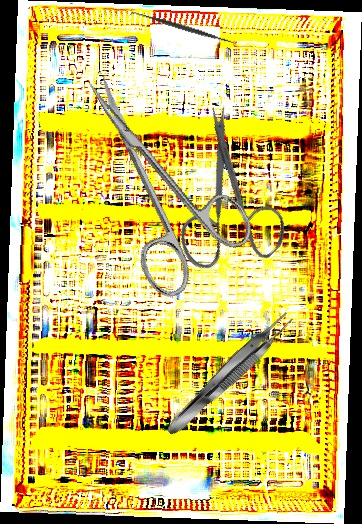Iris Scissors: (47, 47, 265, 305), (123, 99, 324, 300)
Spatula Surgical: (128, 6, 239, 50)
Tissue Forceps: (160, 307, 298, 441)
